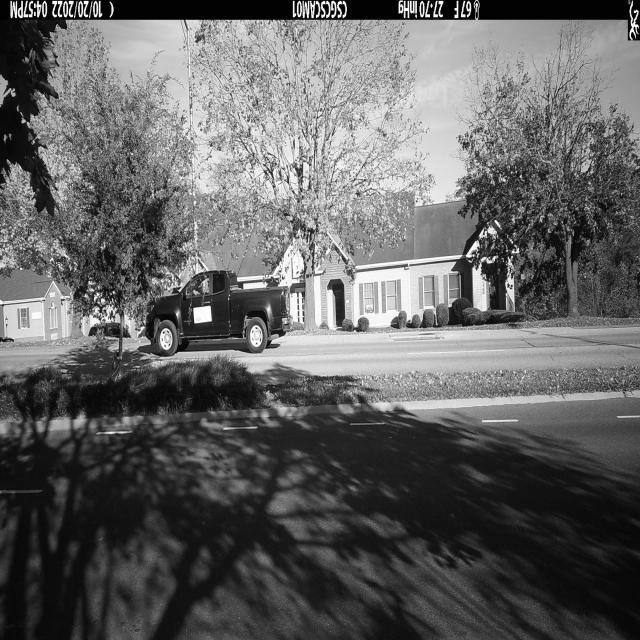Pickup: (146, 269, 295, 357)
